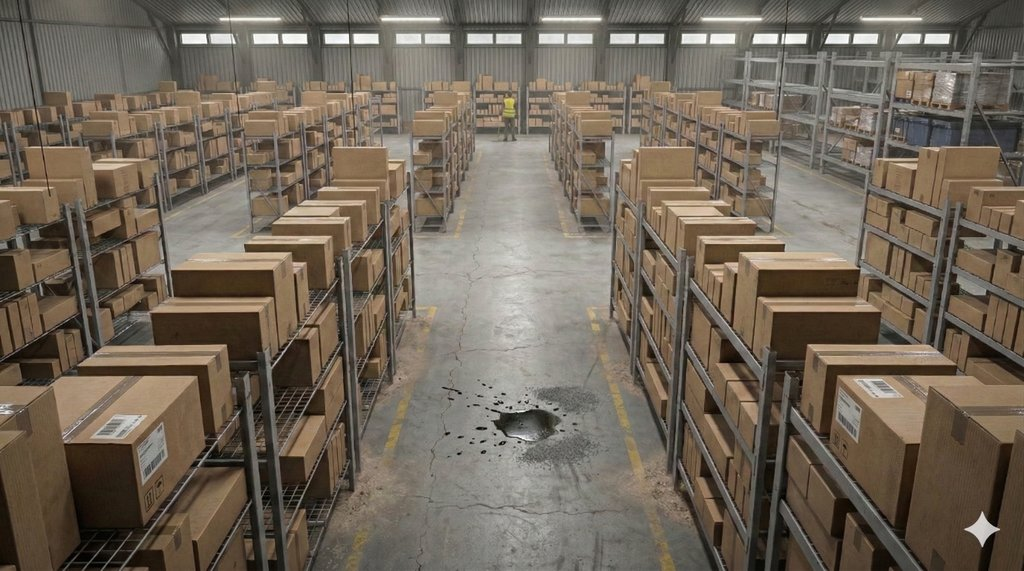empty_shelf: (751, 45, 887, 96), (888, 27, 1001, 73), (253, 388, 308, 449)
person: (497, 84, 530, 146)
safety_vest: (502, 98, 521, 124)
spill: (402, 347, 580, 470)
